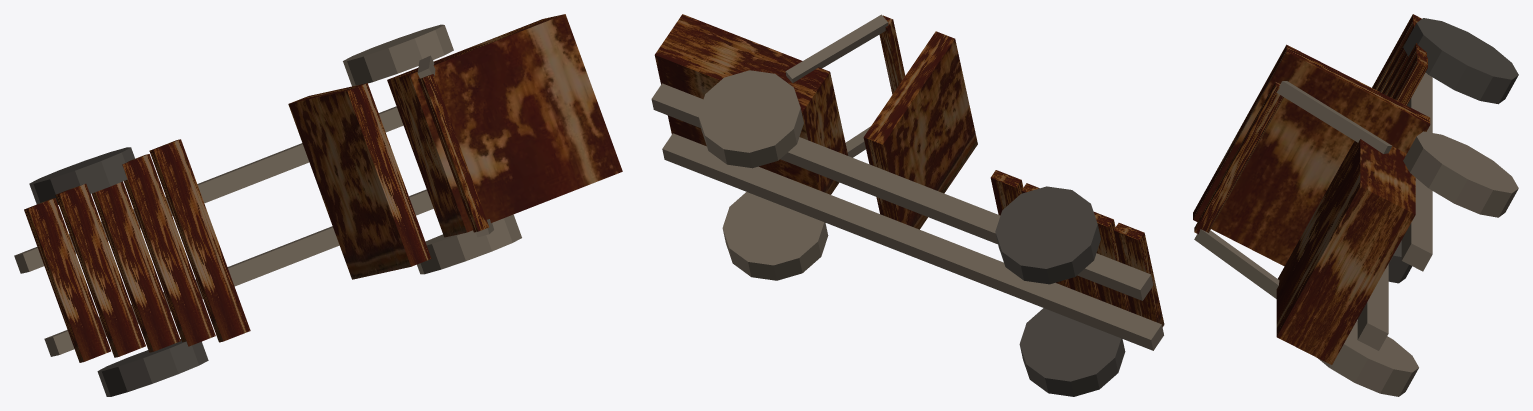
Rendered from drvar-wreck.glb.
3 renders of one model, left to right at view 1: azimuth 30°, elevation 25°; view 2: azimuth 150°, elevation 25°; view 3: azimuth 270°, elevation 25°, orthographic. The views are drawn at different scales.
Visible parts, largest first — view 1: Split load bed.004; view 2: Split load bed.004; view 3: Split load bed.004.
Part boxes in pixels (x1,y1,x2,y2): Split load bed.004: (14,14,622,396); Split load bed.004: (651,14,1164,396); Split load bed.004: (1193,14,1518,396).
Size of the model in its own units: 5.49 by 2.92 by 2.7.
3 materials, 1 textured.
